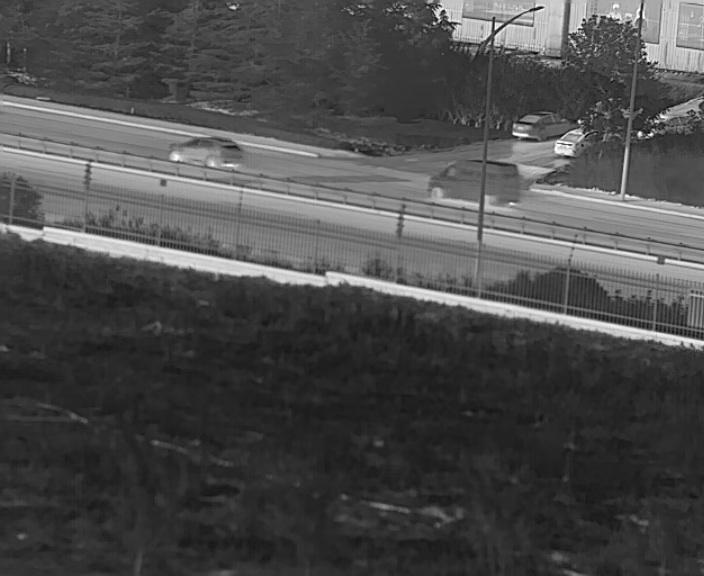vehicle: (428, 160, 521, 205), (169, 137, 241, 167), (511, 110, 562, 142), (553, 128, 587, 158)
